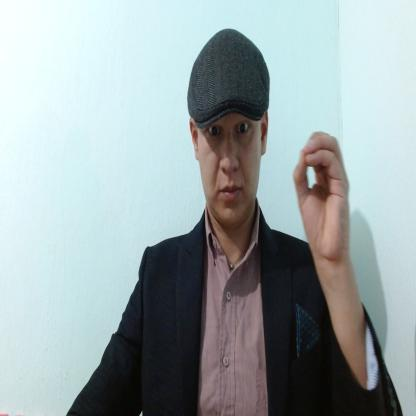O: (292, 130, 352, 258)
